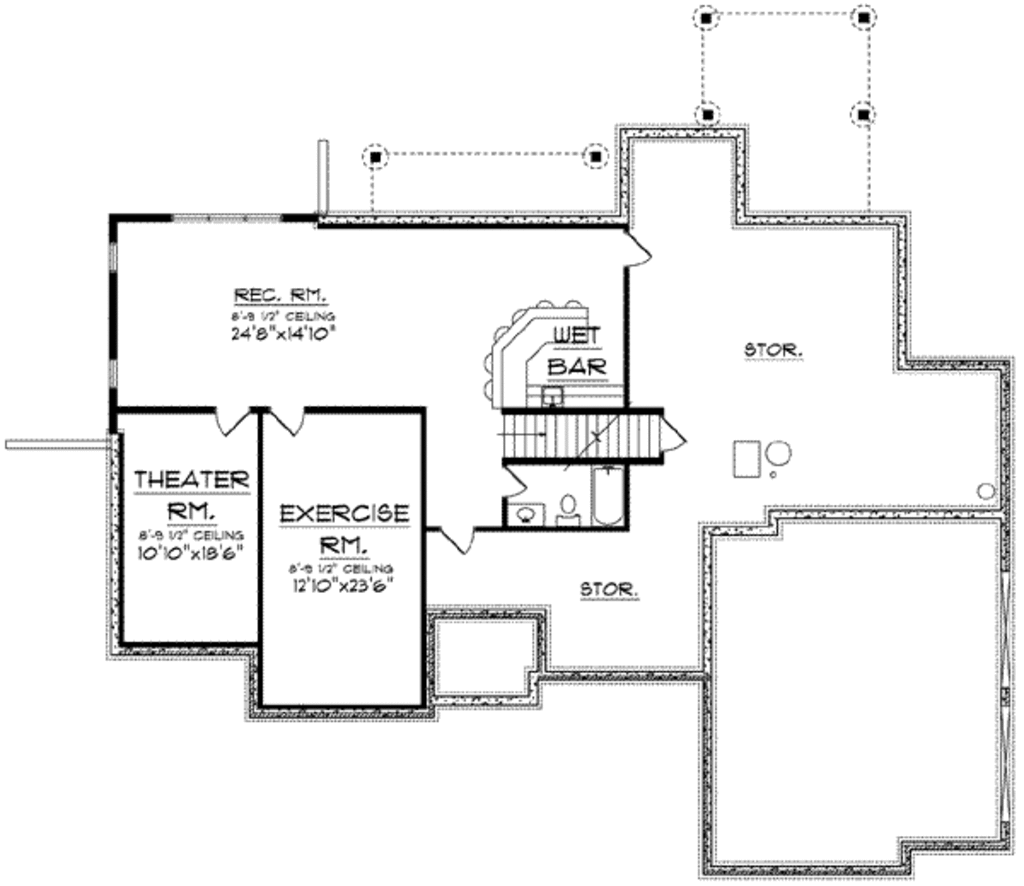door: (208, 401, 254, 441), (269, 404, 306, 441), (440, 523, 476, 560)
kitchen_bar: (481, 295, 592, 405)
stairs: (496, 407, 663, 465)
windows: (166, 207, 283, 229), (101, 232, 126, 283), (105, 353, 122, 391)
